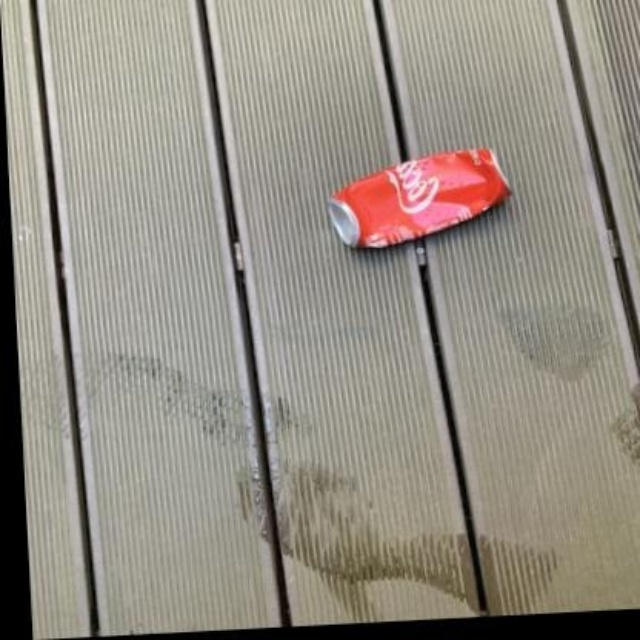trash: (328, 148, 509, 246)
